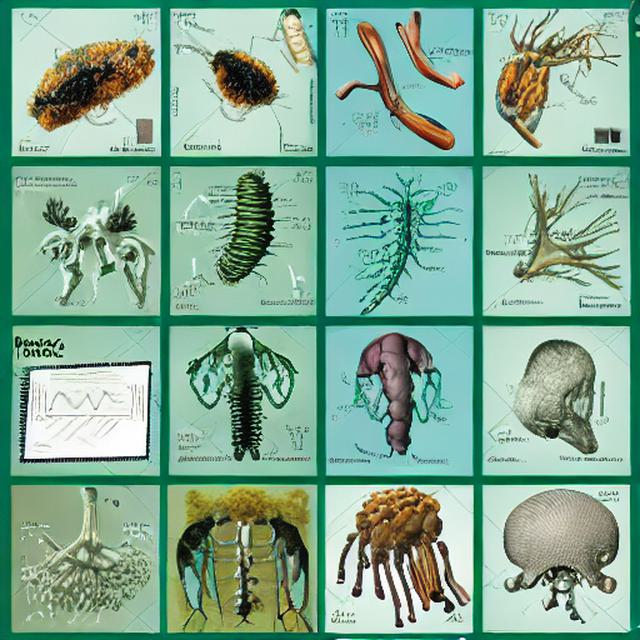Graph: (32, 375, 125, 443)
